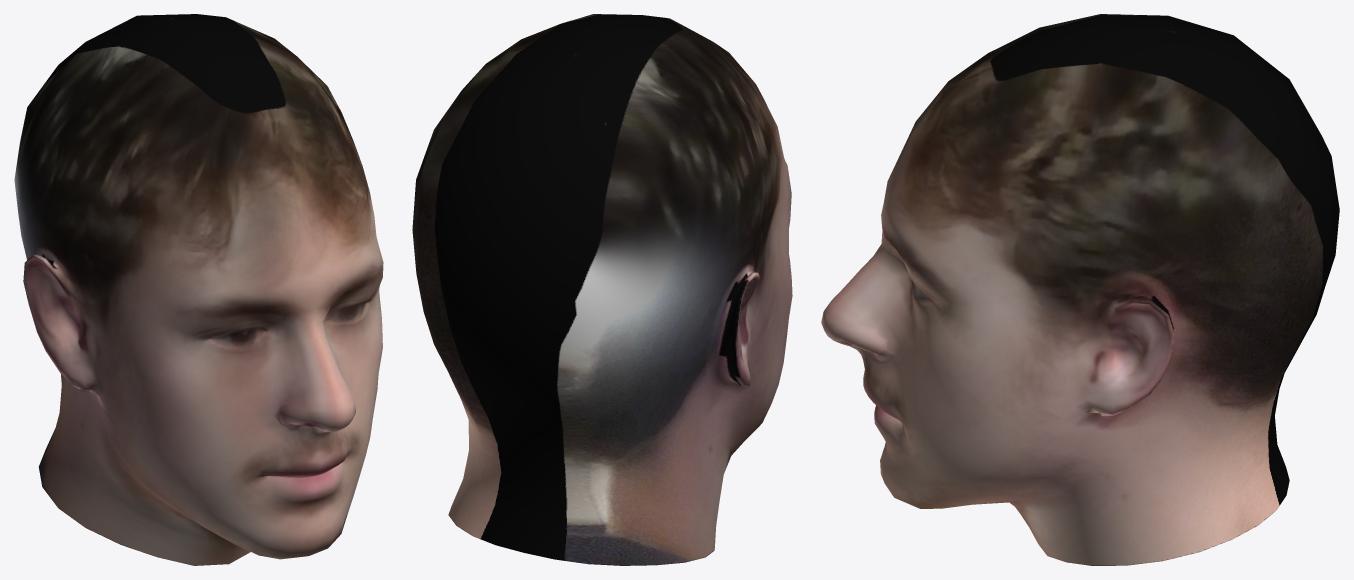
Rendered from ianevers.glb.
The picture shows the model from 3 angles, left to right: view 1: azimuth 30°, elevation 25°; view 2: azimuth 150°, elevation 25°; view 3: azimuth 270°, elevation 25°; orthographic projection. The views are drawn at different scales.
Visible parts, largest first — view 1: pelo; view 2: pelo; view 3: pelo.
Part boxes in pixels (x1,y1,x2,y2): pelo: (14,14,383,565); pelo: (412,14,792,565); pelo: (821,14,1339,565).
Bounding box in the file's own units: 1.62 × 2.51 × 2.27.
Materials: 1 (1 with a texture image).
